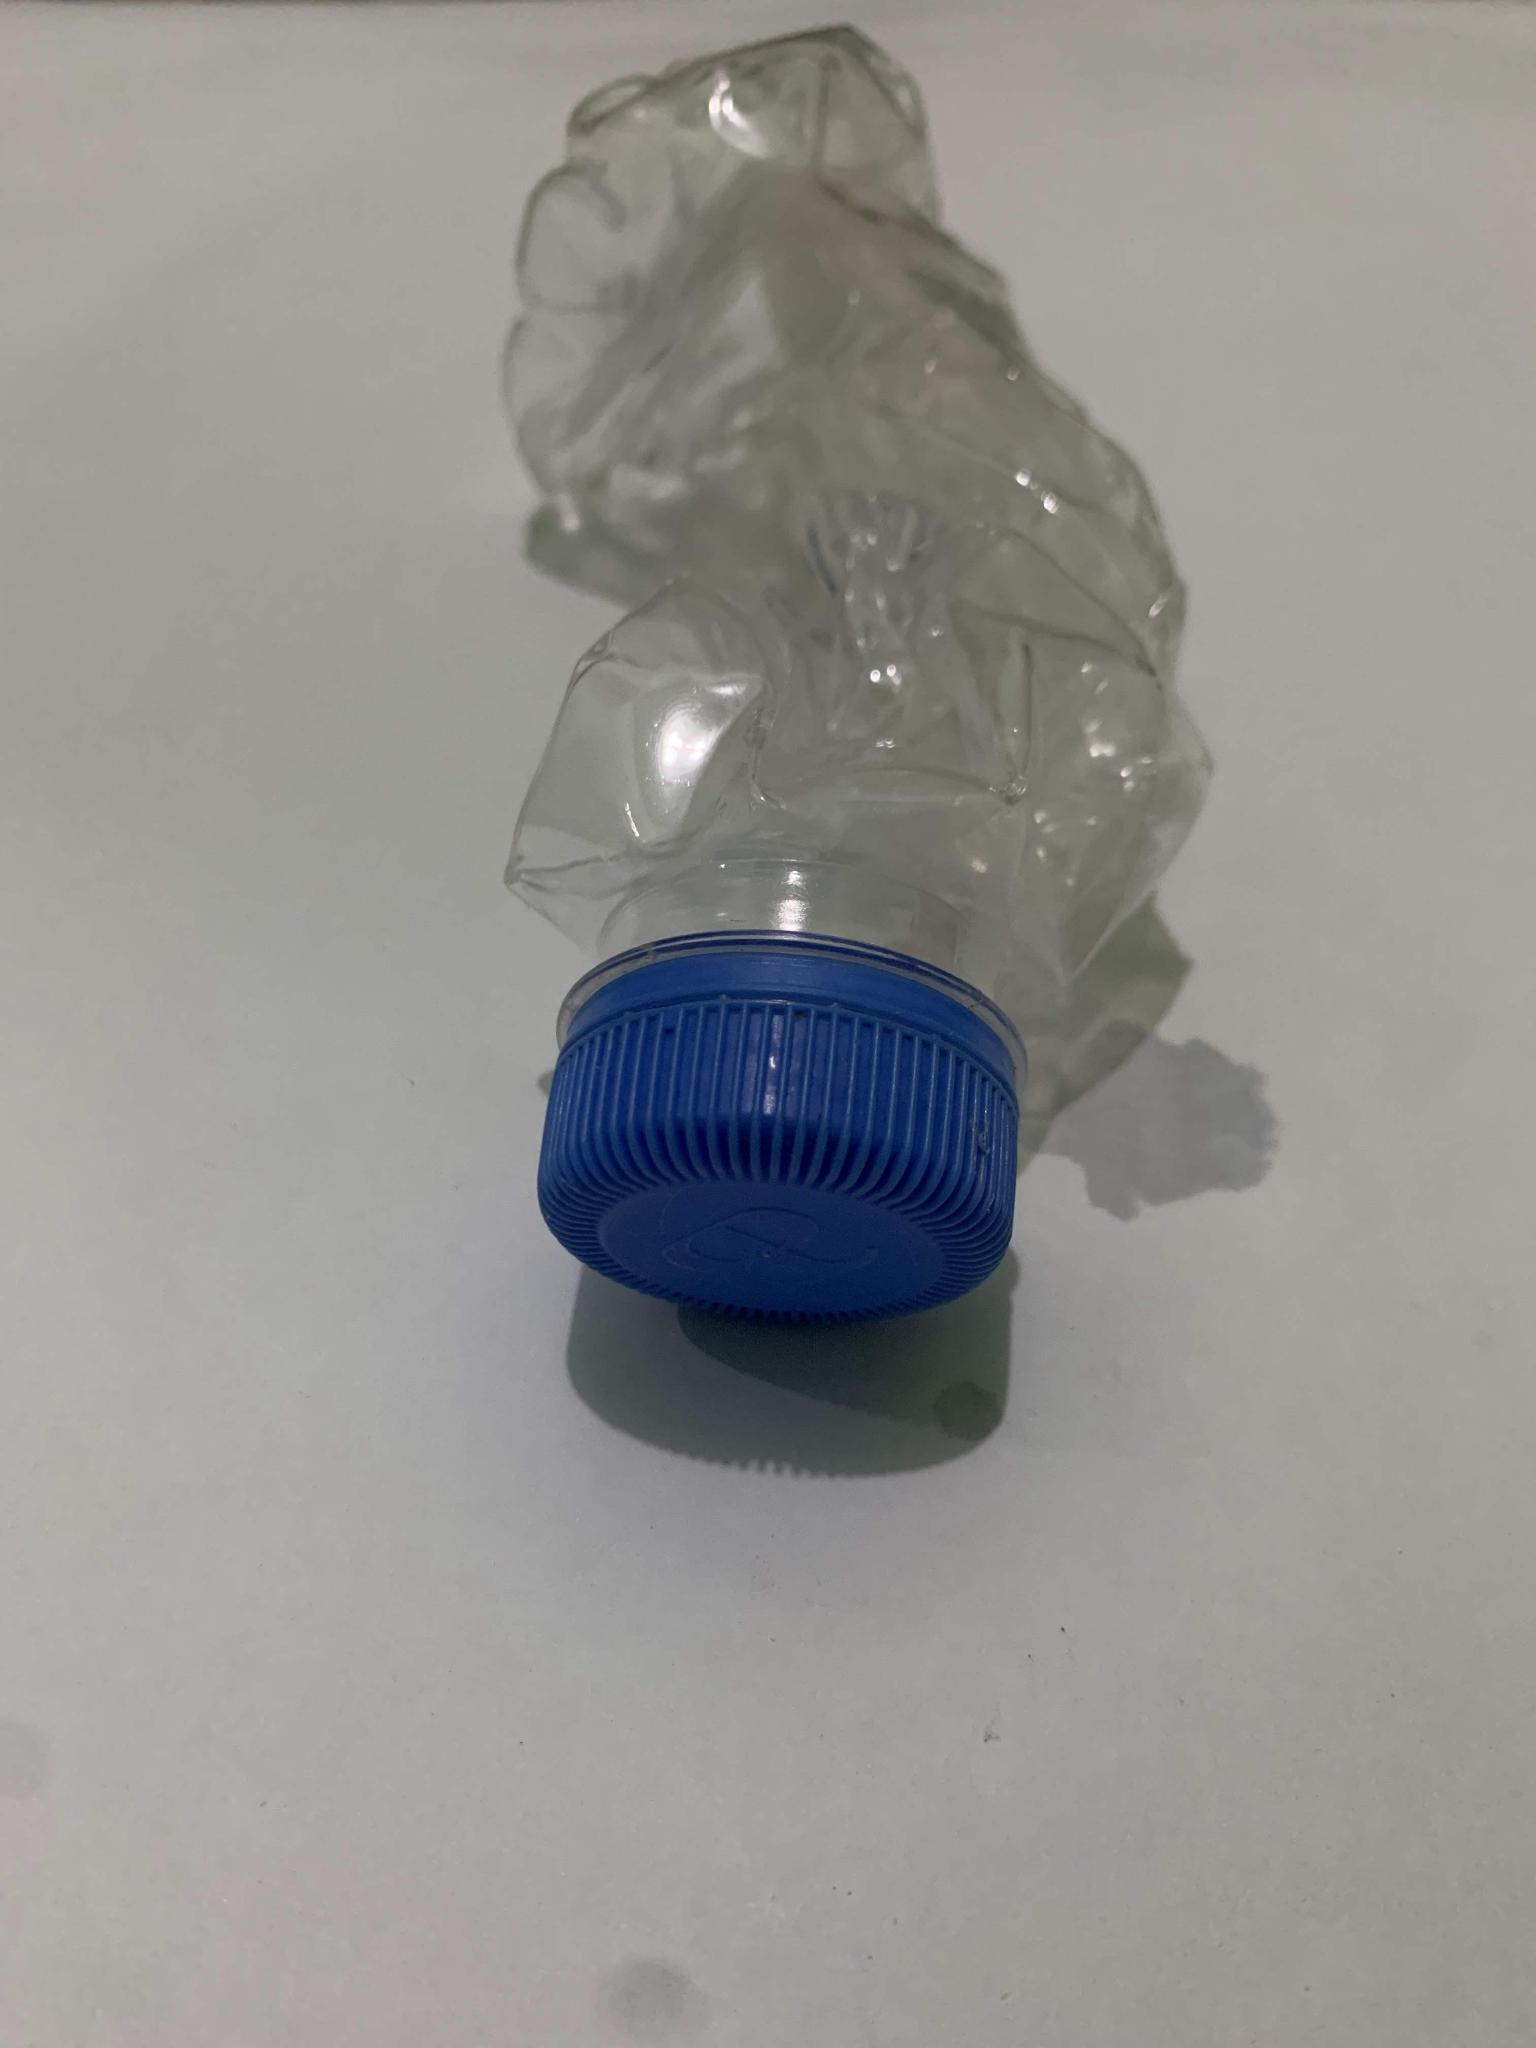bottle: (346, 8, 1252, 1384)
